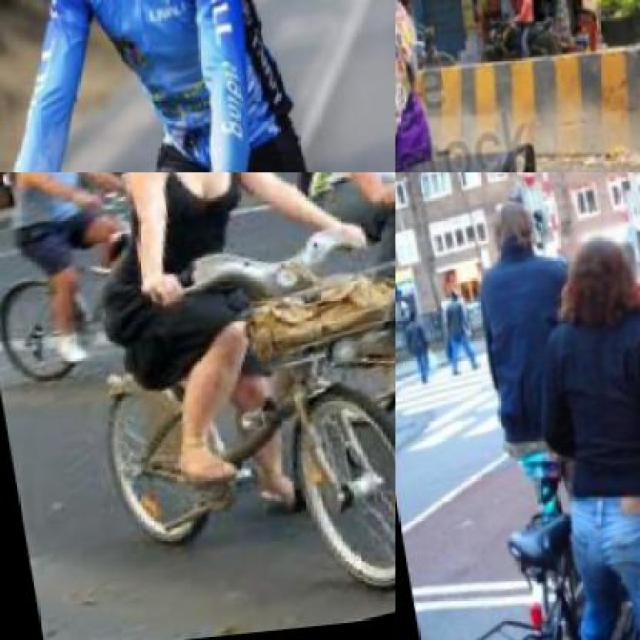Without Helmet: (558, 217, 638, 343), (475, 179, 543, 272)
